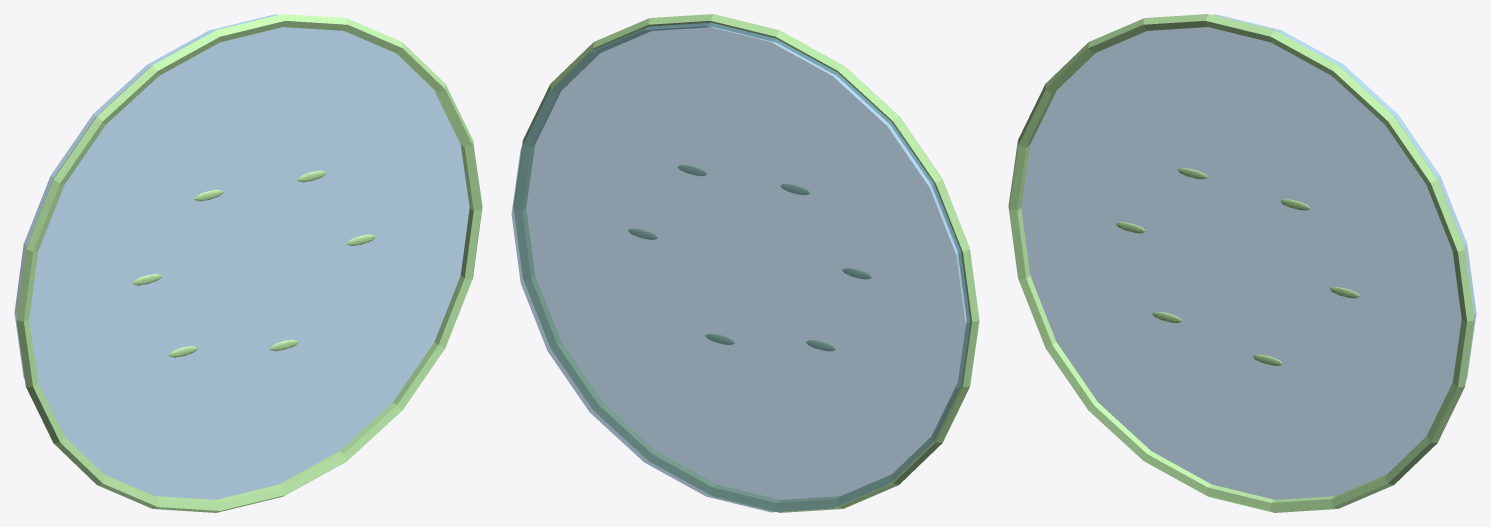
The model's file is 01_starfield_sky_water_preview.glb.
The picture shows the model from 3 angles, left to right: view 1: azimuth 30°, elevation 25°; view 2: azimuth 150°, elevation 25°; view 3: azimuth 330°, elevation 25°; orthographic projection.
Visible parts, largest first — view 1: water_surface, water_rim; view 2: water_surface, water_rim; view 3: water_surface, water_rim.
Boxes of the visible parts, bbox=[...] form: water_surface: bbox=[14, 14, 469, 499]; water_rim: bbox=[16, 14, 482, 512]; water_surface: bbox=[511, 22, 970, 512]; water_rim: bbox=[513, 14, 979, 512]; water_surface: bbox=[1021, 14, 1476, 499]; water_rim: bbox=[1008, 14, 1474, 512].
Bounding box in the file's own units: 1.95 × 1.93 × 0.0935.
